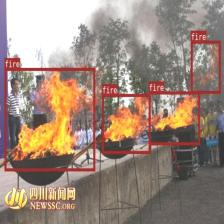fire: (4, 68, 95, 170), (101, 93, 150, 153), (148, 91, 200, 145), (191, 40, 220, 94)
